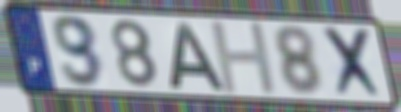8: (272, 22, 327, 99), (108, 18, 161, 90)
9: (49, 13, 108, 91)
A: (167, 20, 227, 92)
H: (207, 20, 281, 97)
X: (319, 23, 388, 103)
